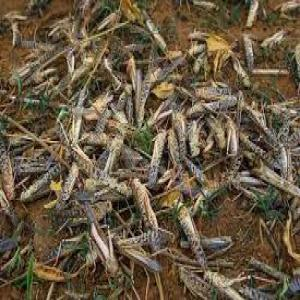locust: (133, 73, 195, 136), (72, 157, 121, 206)
